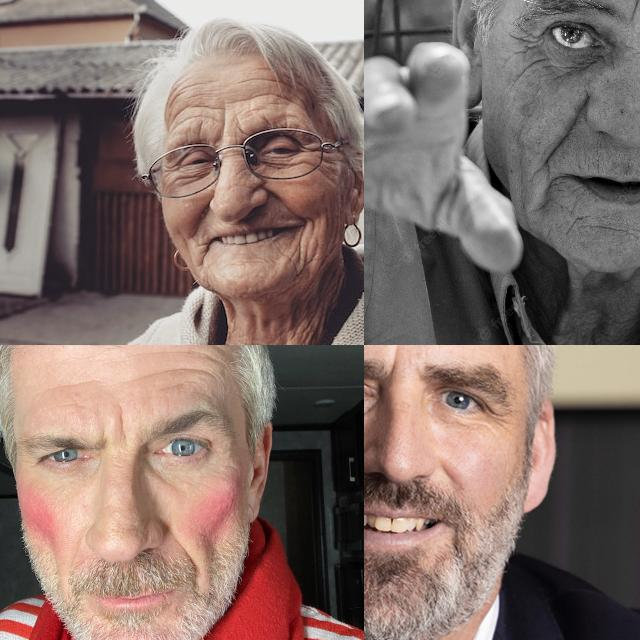chin: (592, 218, 640, 240), (564, 209, 584, 241)
crows_feet: (511, 26, 543, 64), (487, 404, 511, 432), (162, 162, 180, 188), (301, 138, 319, 160)
forehead: (148, 348, 224, 394), (168, 82, 208, 124), (253, 70, 291, 104), (46, 377, 106, 395)
frown_line: (110, 406, 130, 448), (385, 345, 405, 385), (624, 0, 640, 24), (216, 118, 228, 144), (232, 122, 246, 144)
gummy_smile: (548, 96, 586, 160), (165, 526, 199, 566), (188, 201, 214, 237), (254, 178, 284, 200), (440, 462, 462, 492)
sad_smile: (299, 214, 317, 266), (538, 175, 556, 211), (197, 240, 213, 270)
